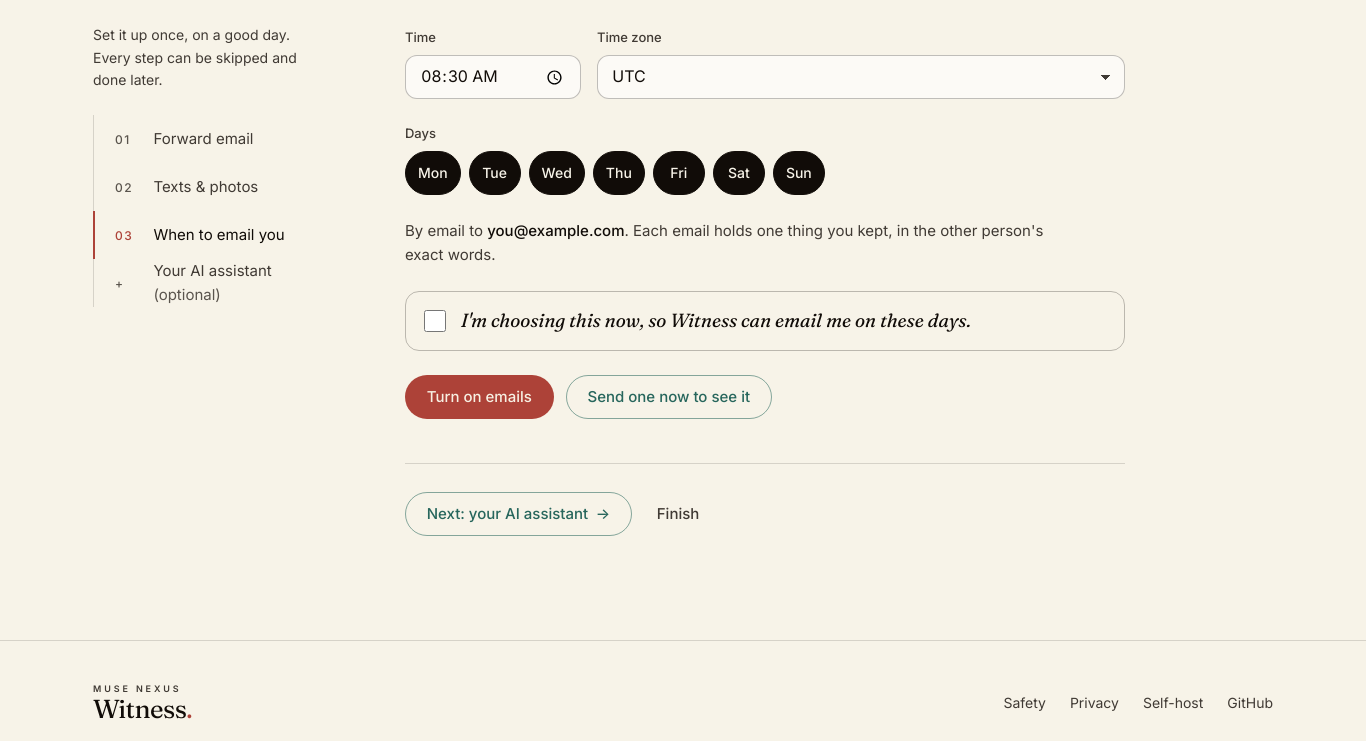
Test: Setup wizard › needs explicit consent, then saves the rhythm you chose
(page scrolled)
Click the button "Turn on emails". click: [479, 397]
box: [405,375,554,419]
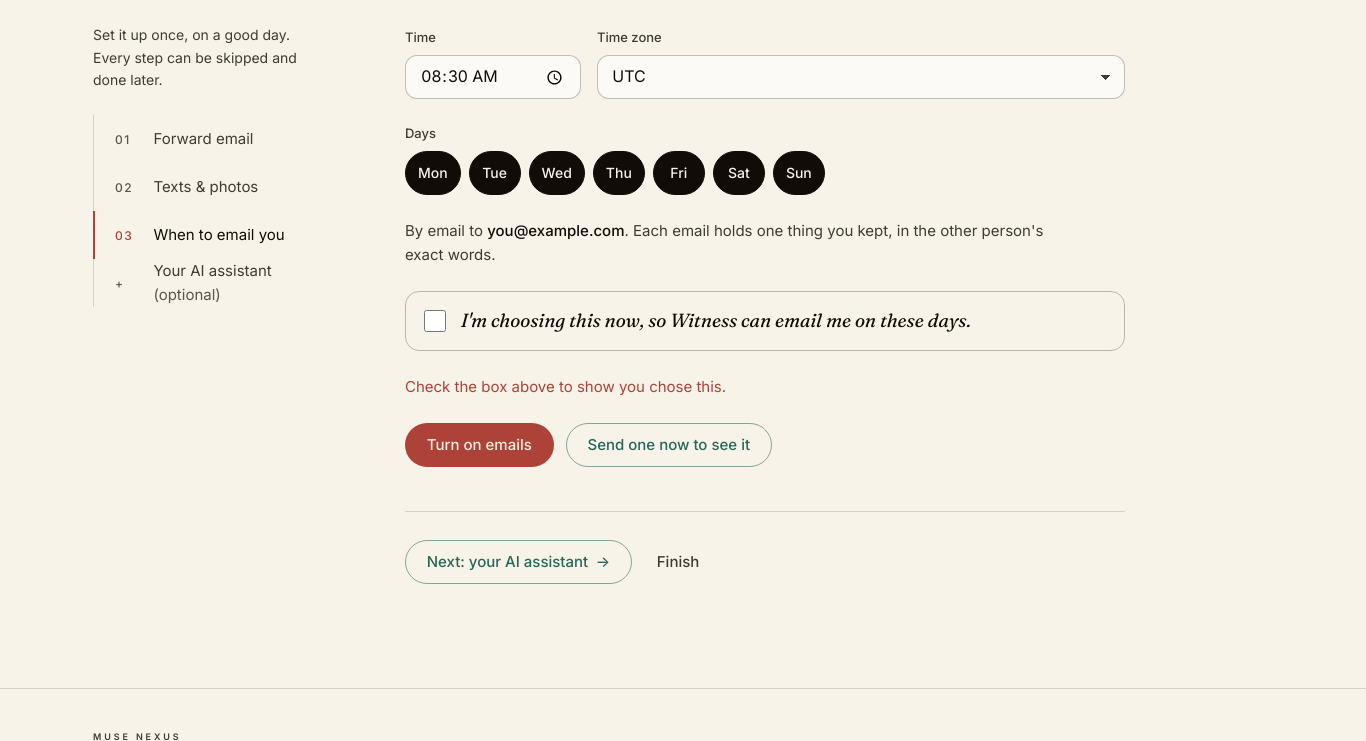
Expected: the message reads "Check the box above to show you chose this.", [405,377,726,396]
Replace the text in the time field labelled "Time" with "07:15". click: [493, 77]
box: [405,55,581,99]
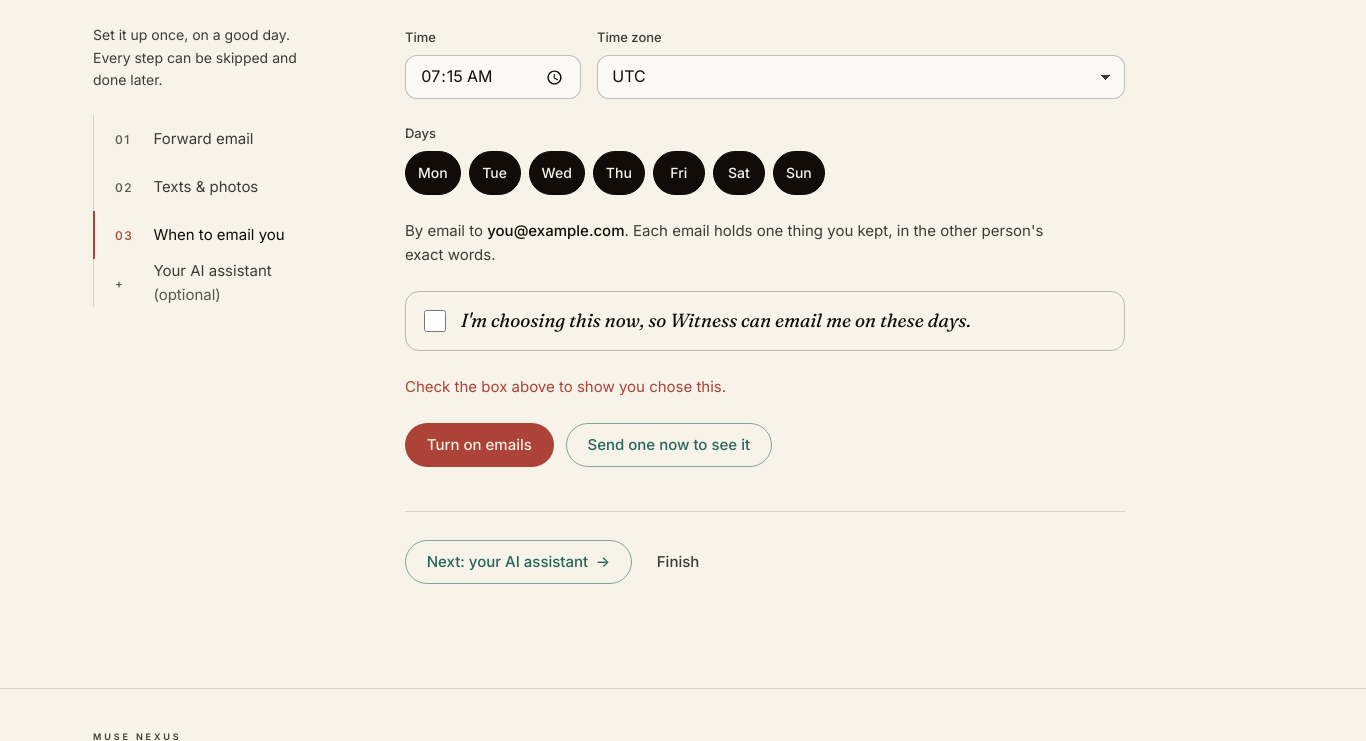
Click the checkbox named "Sunday". click: [799, 173]
box: [773,151,825,195]
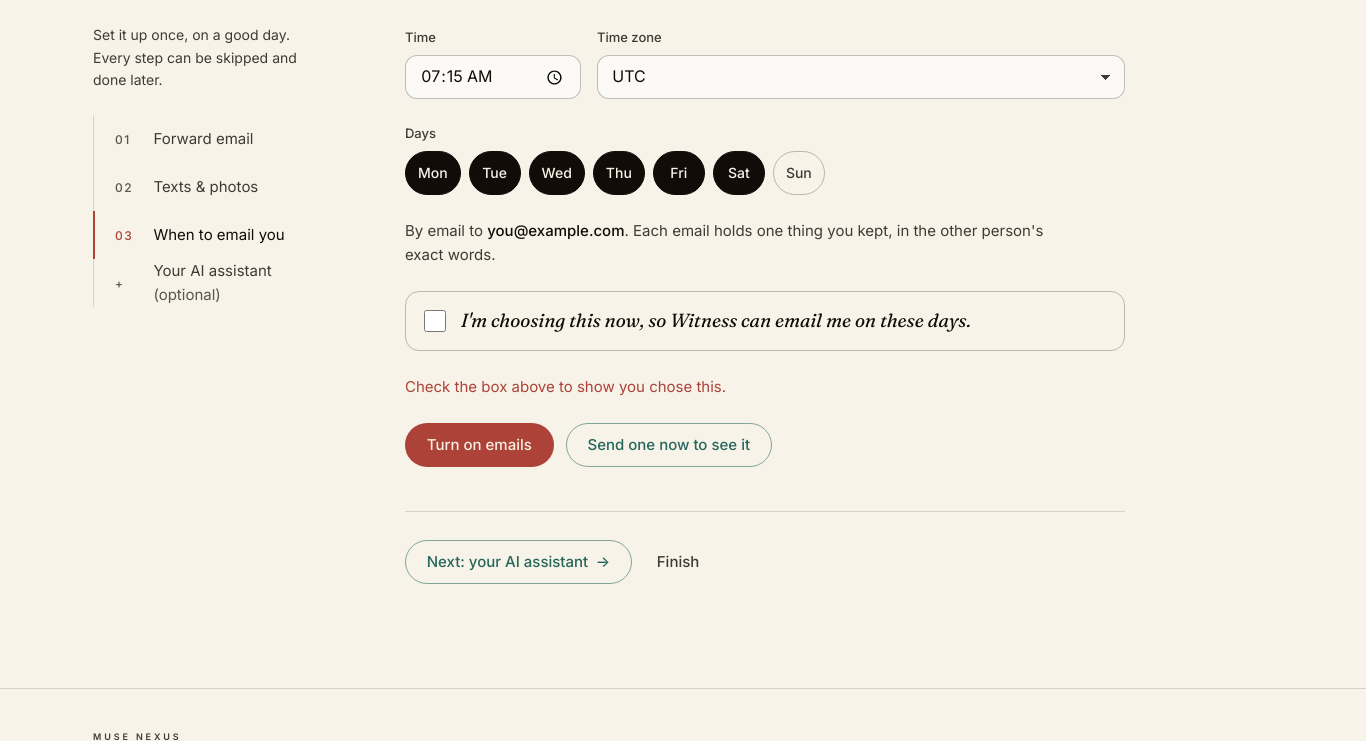
Click the checkbox named "Saturday". click: [739, 173]
box: [713,151,765,195]
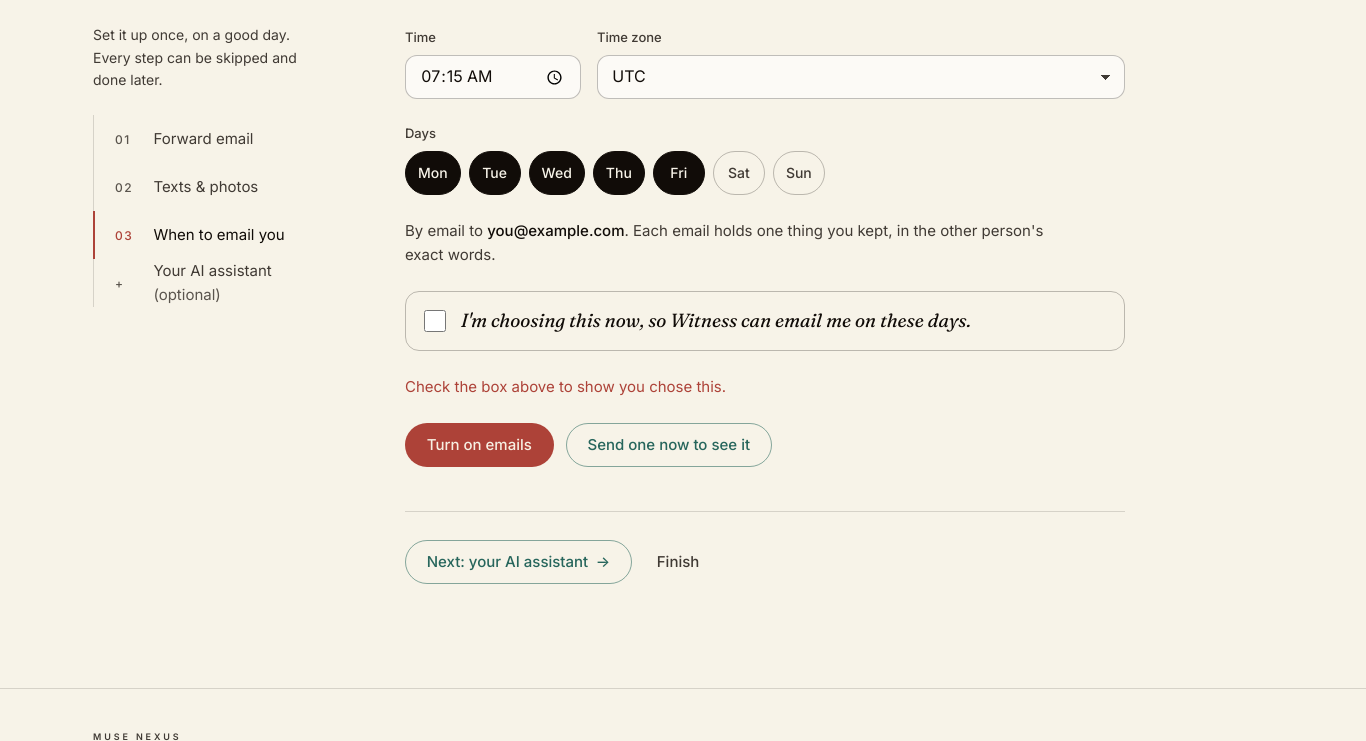
Click the checkbox labelled "I'm choosing this now, so Witness can email me on these days.". click: [435, 321]
box: [424,310,446,332]
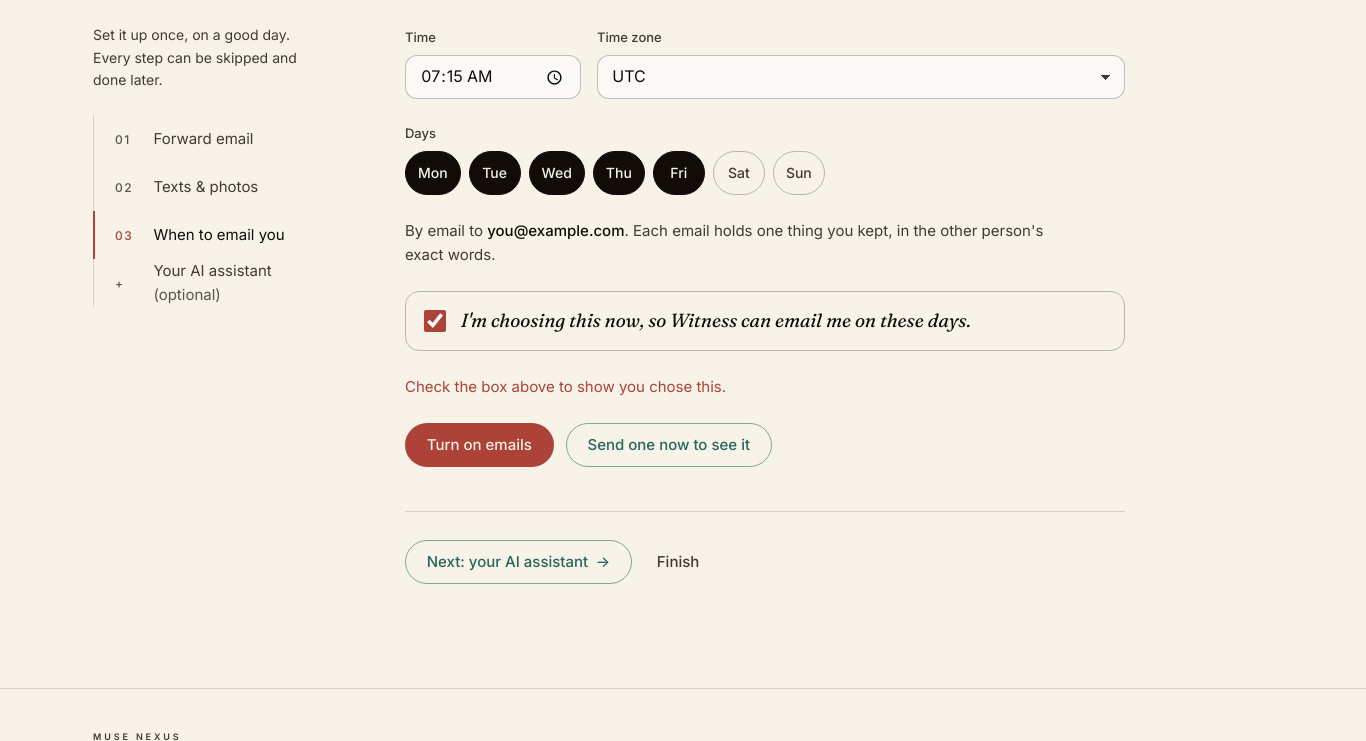
Click the button "Turn on emails". click: [479, 445]
box: [405,423,554,467]
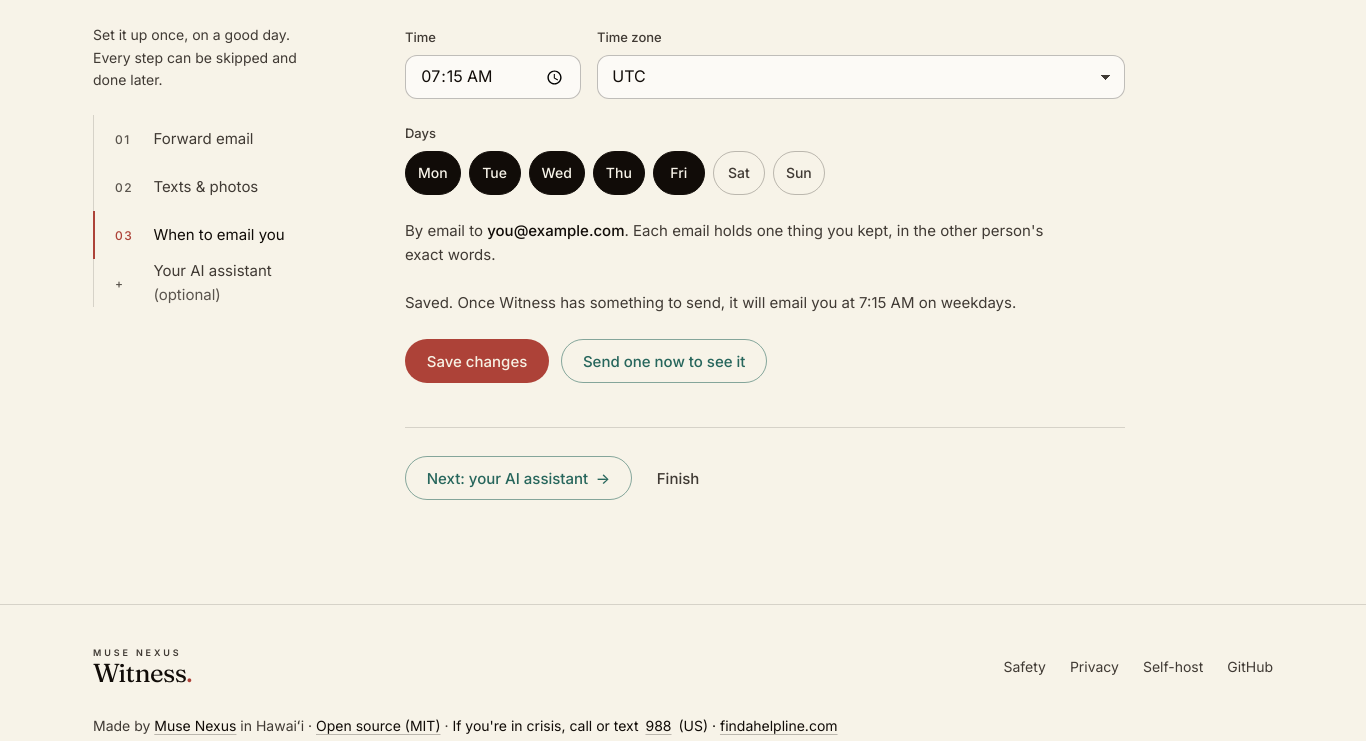
Expected: the text "Saved. Once Witness has something to send, it will email you at 7:15 AM on weekdays." is shown, [405,293,1016,312]
